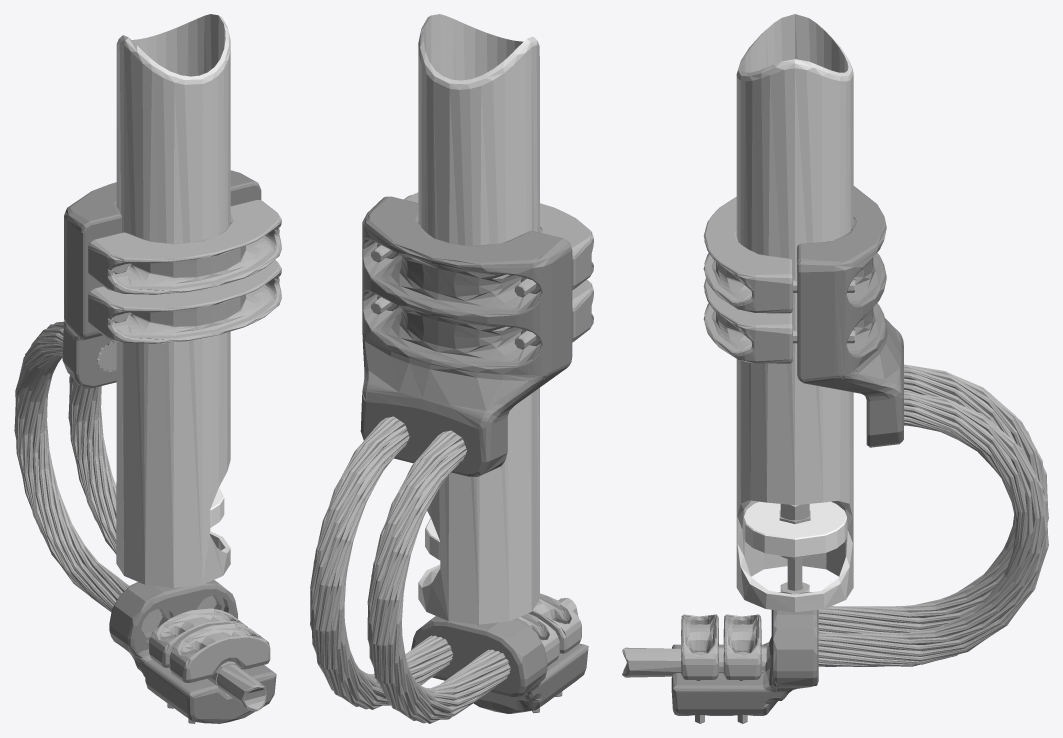
File: cntp.gltf
The picture shows the model from 3 angles, left to right: view 1: azimuth 30°, elevation 25°; view 2: azimuth 150°, elevation 25°; view 3: azimuth 270°, elevation 25°; orthographic projection. The views are drawn at different scales.
Visible parts, largest first — view 1: Gt7Sj3Sa.001, Gt7Sj3Sa, Gt7Sj3Sa.003, Gt7Sj3Sa.004; view 2: Gt7Sj3Sa.001, Gt7Sj3Sa.004, Gt7Sj3Sa, Gt7Sj3Sa.003; view 3: Gt7Sj3Sa.001, Gt7Sj3Sa, Gt7Sj3Sa.004, Gt7Sj3Sa.003, Gt7Sj3Sa.002.
Part boxes in pixels (box(x1,y1,x2,y2)): Gt7Sj3Sa.001: box(116, 14, 230, 587); Gt7Sj3Sa: box(14, 200, 281, 723); Gt7Sj3Sa.003: box(109, 580, 276, 723); Gt7Sj3Sa.004: box(62, 170, 261, 387); Gt7Sj3Sa.001: box(418, 14, 539, 624); Gt7Sj3Sa.004: box(360, 196, 572, 476); Gt7Sj3Sa: box(310, 192, 593, 723); Gt7Sj3Sa.003: box(411, 616, 588, 713); Gt7Sj3Sa.001: box(736, 14, 853, 612); Gt7Sj3Sa: box(622, 197, 1048, 723); Gt7Sj3Sa.004: box(797, 186, 903, 447); Gt7Sj3Sa.003: box(671, 592, 818, 715); Gt7Sj3Sa.002: box(743, 501, 847, 557).
Bounding box in the file's own units: 0.8997 × 3.14 × 1.81.
4 materials, 4 textured.
